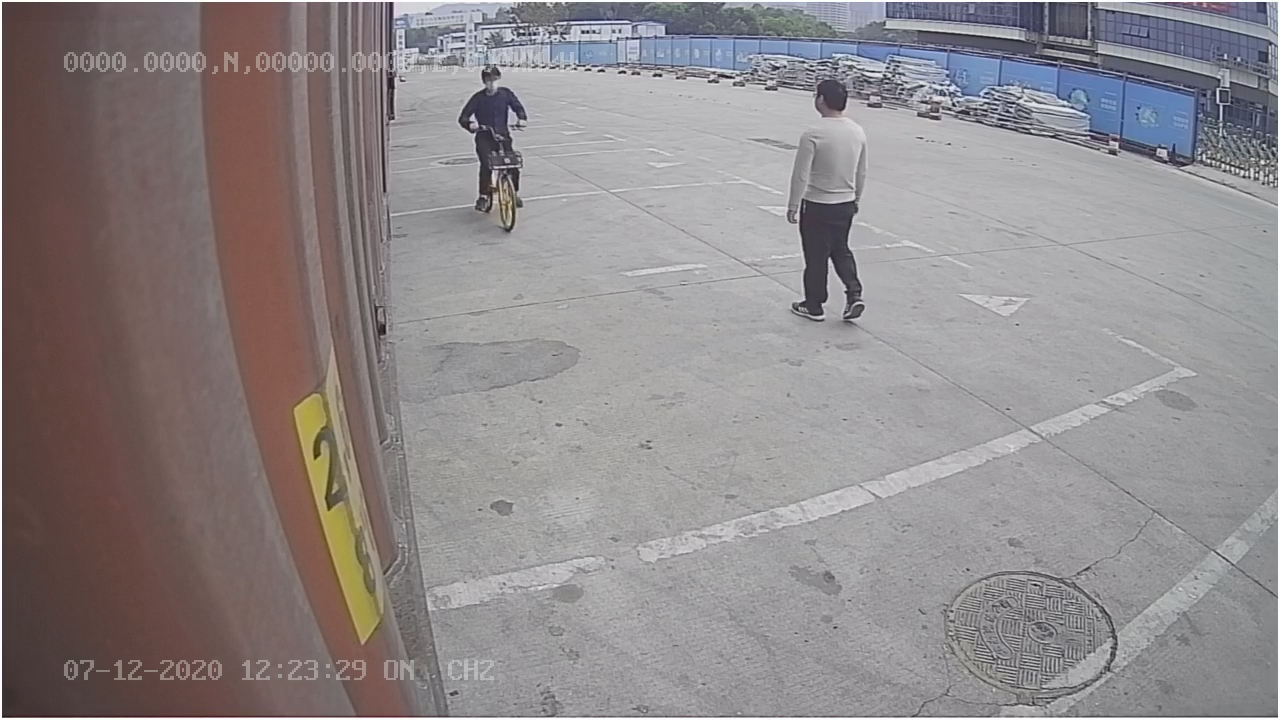person: (779, 76, 874, 329)
